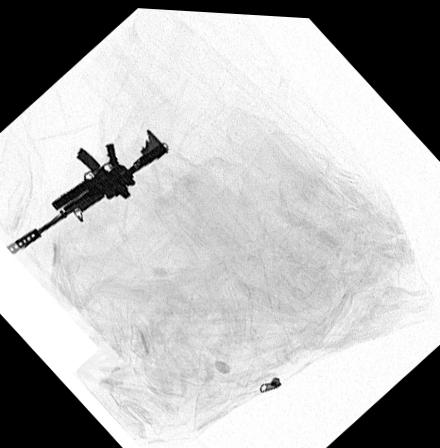Gun: (0, 124, 168, 256)
